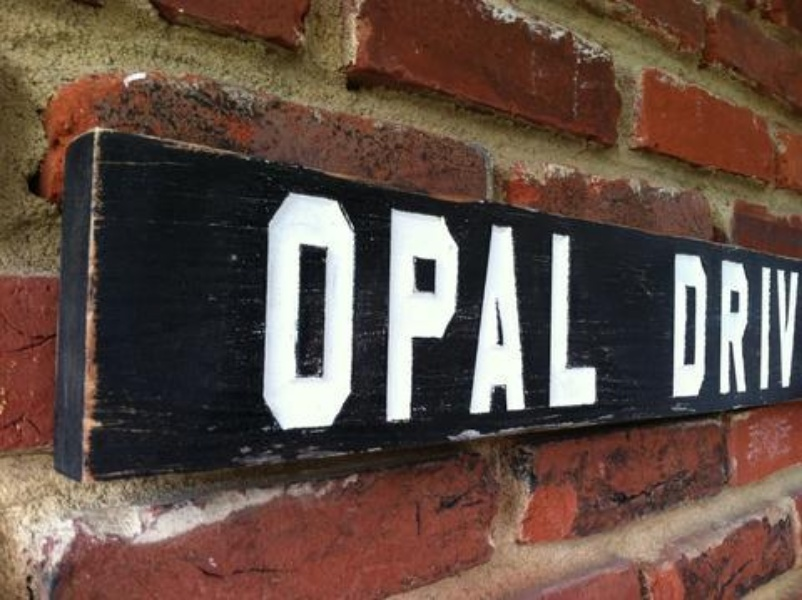text: (273, 186, 288, 433), (289, 186, 304, 433), (305, 186, 320, 433), (321, 186, 336, 433), (337, 186, 352, 433), (353, 186, 368, 433), (369, 186, 384, 433), (385, 186, 400, 433), (401, 186, 416, 433), (417, 186, 432, 433), (433, 186, 448, 433), (449, 186, 464, 433), (465, 186, 480, 433), (481, 186, 496, 433), (497, 186, 512, 433), (513, 186, 528, 433), (529, 186, 544, 433), (545, 186, 560, 433), (561, 186, 576, 433), (577, 186, 592, 433), (785, 250, 801, 402), (673, 250, 688, 402), (689, 250, 704, 402), (705, 250, 720, 402), (721, 250, 736, 402), (737, 250, 752, 402), (753, 250, 768, 402), (769, 250, 784, 402), (266, 186, 272, 433), (593, 186, 599, 433)
